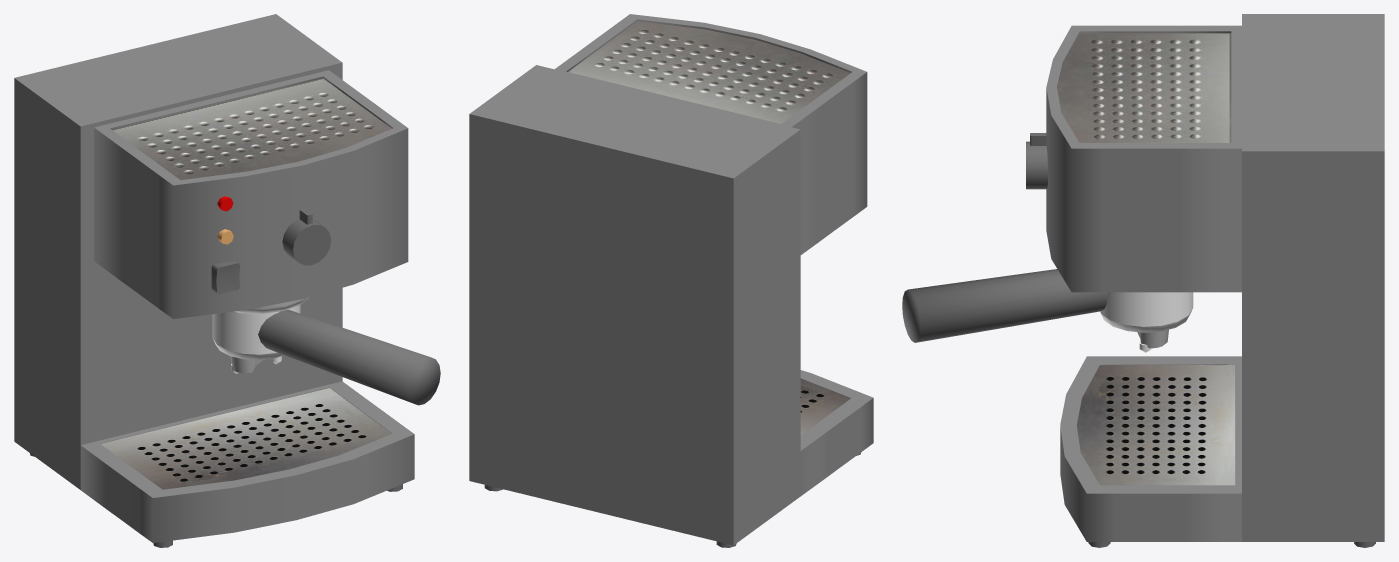
Rendered from sweethome3d-contributions-coffee-machine-310.glb.
3 renders of one model, left to right at view 1: azimuth 30°, elevation 25°; view 2: azimuth 150°, elevation 25°; view 3: azimuth 270°, elevation 25°, orthographic. The views are drawn at different scales.
Visible parts, largest first — view 1: Cube_1, Boolean_1, Boolean_1_1, grille, plaque, manche, Cylinder_11, object 2, on/off; view 2: Cube_1, plaque, Boolean_1, Boolean_1_1, grille; view 3: Cube_1, Boolean_1, plaque, grille, Boolean_1_1, manche, Cylinder_11, object 2.
Part boxes in pixels (<box>): Cube_1: <box>14,14,342,489</box>; Boolean_1: <box>94,70,408,319</box>; Boolean_1_1: <box>80,381,414,542</box>; grille: <box>100,388,391,489</box>; plaque: <box>112,78,391,179</box>; manche: <box>258,309,440,405</box>; Cylinder_11: <box>212,305,300,359</box>; object 2: <box>282,208,331,265</box>; on/off: <box>211,261,239,294</box>; Cube_1: <box>469,65,800,545</box>; plaque: <box>568,21,850,123</box>; Boolean_1: <box>555,14,867,254</box>; Boolean_1_1: <box>800,370,873,495</box>; grille: <box>800,379,850,434</box>; Cube_1: <box>1242,14,1384,541</box>; Boolean_1: <box>1046,25,1241,292</box>; plaque: <box>1057,33,1231,142</box>; grille: <box>1077,365,1235,485</box>; Boolean_1_1: <box>1060,356,1241,541</box>; manche: <box>902,269,1107,342</box>; Cylinder_11: <box>1100,292,1193,332</box>; object 2: <box>1026,133,1047,189</box>.
Bounding box in the file's own units: 20.51 × 27.87 × 30.45.
9 materials, 2 textured.
